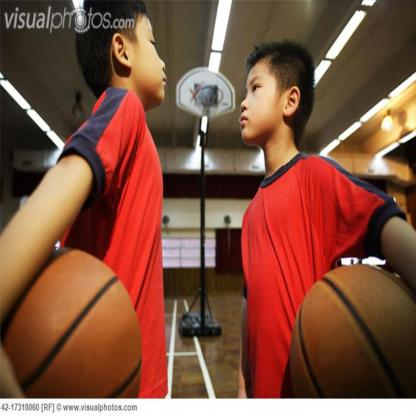face: (241, 49, 281, 139), (129, 8, 168, 97)
